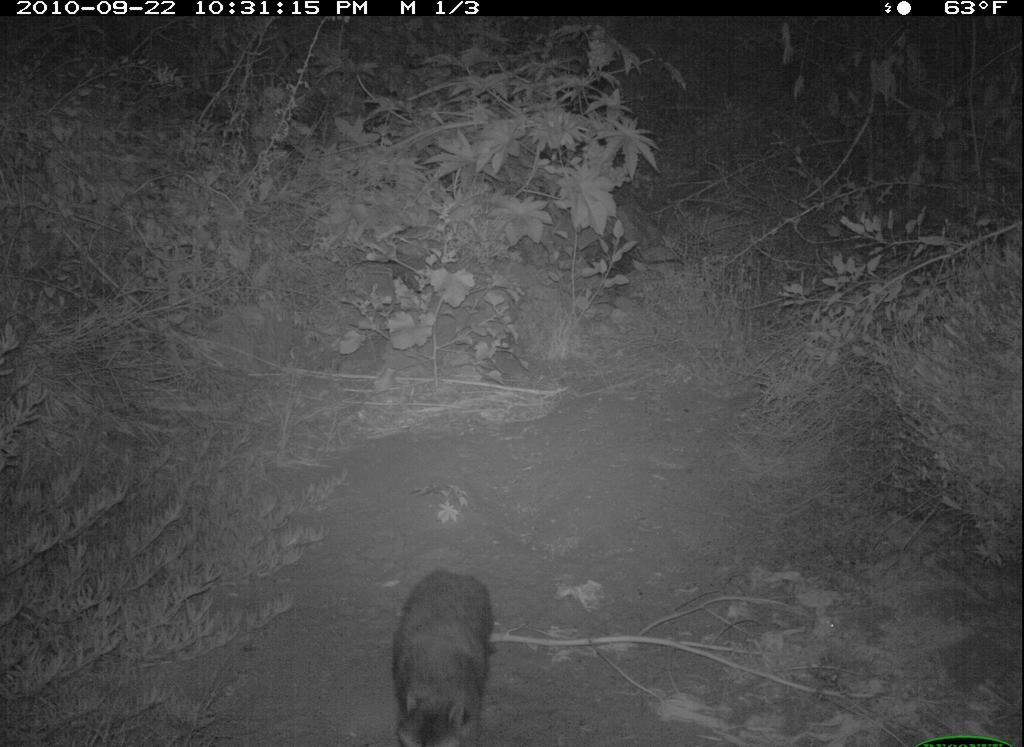raccoon: (390, 564, 500, 747)
